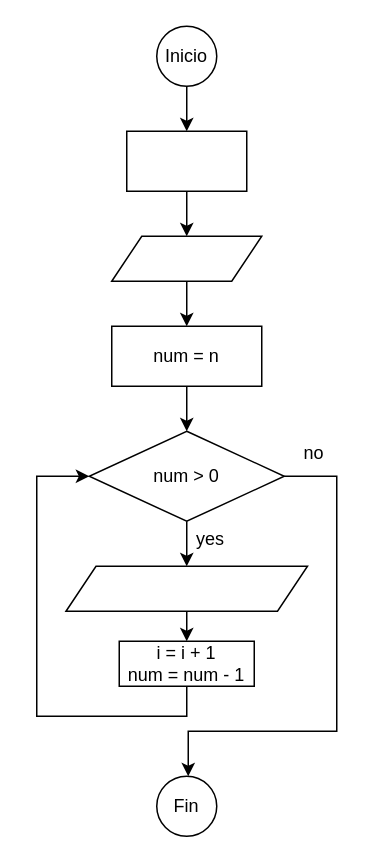
This 375x863 diagram has some shape labels left out. The centre of each missing label's shape, as x and y in pixels:
Escribir(((-1)**i)*num): the point at 186,588
i = 0: the point at 186,160
Leer(n): the point at 186,258
